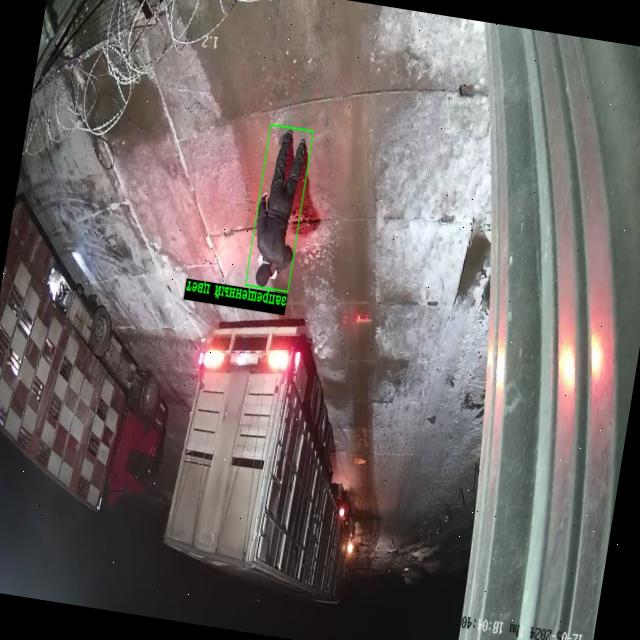Person: (255, 130, 306, 286)
